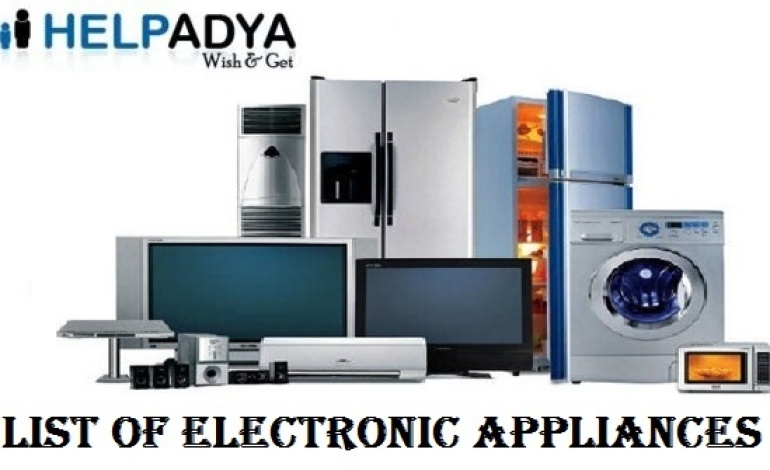AC: (240, 103, 307, 236), (289, 340, 428, 382)
Refrigerator: (311, 77, 474, 239), (483, 108, 635, 207)
